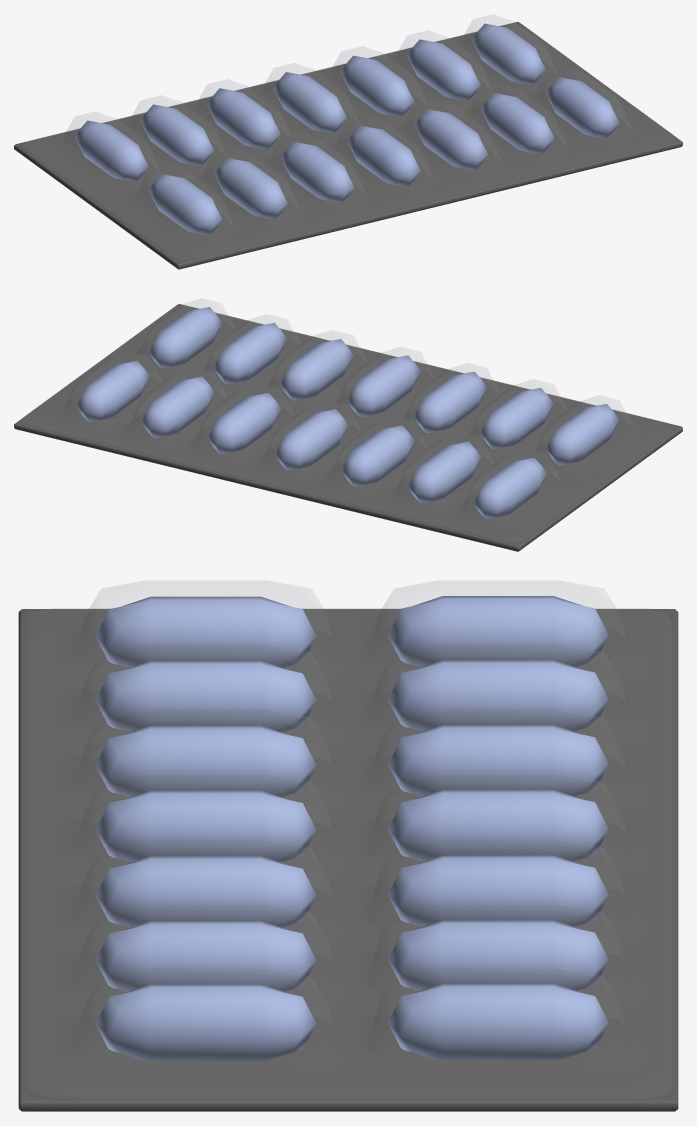
File: Eden_pills.fbx
3 views of the same model, one above another, from view 1: azimuth 30°, elevation 25°; view 2: azimuth 150°, elevation 25°; view 3: azimuth 270°, elevation 25° (orthographic). The views are drawn at different scales.
Parts seen in each view (by area): view 1: pills; view 2: pills; view 3: pills.
Part boxes in pixels (bbox=[...]): pills: bbox=[14, 15, 682, 269]; pills: bbox=[14, 298, 682, 551]; pills: bbox=[18, 581, 678, 1111].
Bounding box in the file's own units: 0.004 × 0.000308 × 0.00226.
